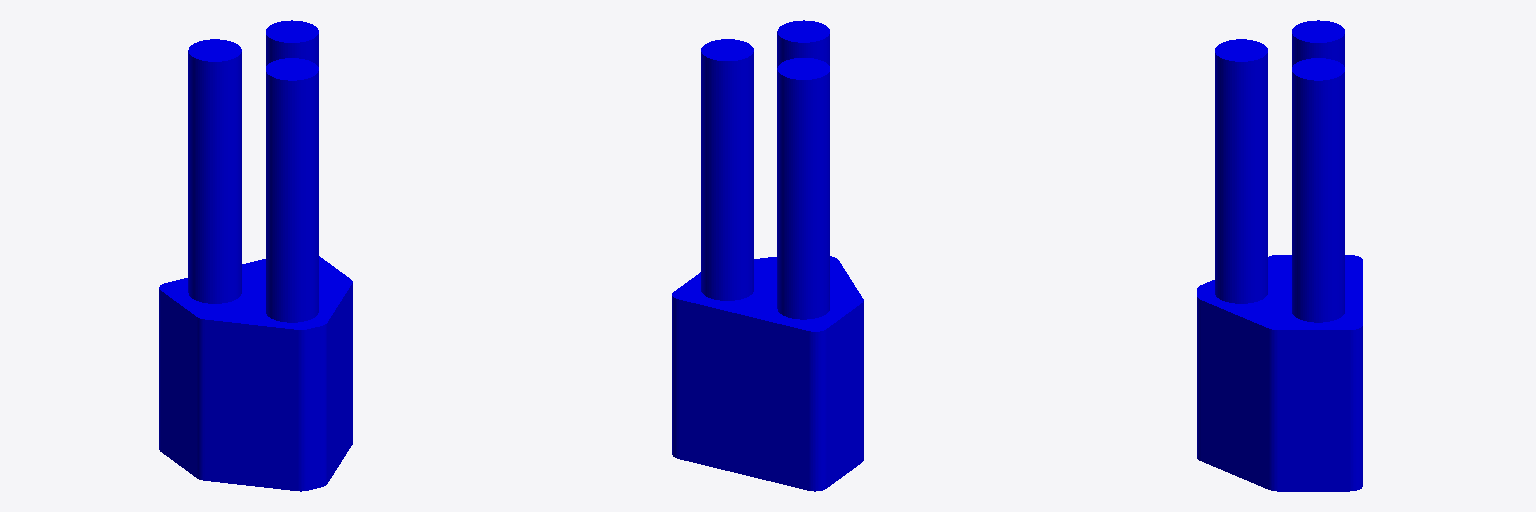
robot.urdf — board3_block1:
<?xml version="1.0"?>
<robot name="board3_block1">
    <link name="board3_block1">
        <visual>
            <origin xyz="0 0 0 " rpy=" 0 0 0"/>
            <geometry>
                <mesh filename="../meshes/SIMO_Board3_Block1.stl" scale="0.001 0.001 0.001"/>
            </geometry>
            <material name="red">
                <color rgba="0.0 0.0 1.0 1.0"/>
            </material>
        </visual>
        <collision>
            <origin xyz="0 0 0" rpy="0 0 0"/>
            <geometry>
                <mesh filename="../meshes/SIMO_Board3_Block1.stl" scale="0.001 0.001 0.001"/>
            </geometry>
        </collision>
    </link>
</robot>

--- Render facts (derived) ---
3 views of the same robot in one strip: view 1: azimuth 30°, elevation 25°; view 2: azimuth 150°, elevation 25°; view 3: azimuth 270°, elevation 25° (orthographic).
Robot: board3_block1 — 1 links, 0 joints (none); root link board3_block1; default pose: every joint at zero.
Visible links, largest first — view 1: board3_block1; view 2: board3_block1; view 3: board3_block1.
Boxes of the visible links, x1,y1,x2,y2 form: board3_block1: [159, 20, 352, 491]; board3_block1: [672, 20, 863, 491]; board3_block1: [1197, 20, 1362, 491].
Size in the robot's own frame: 0.04 by 0.0373 by 0.1 metres.
Meshes: 1 distinct files referenced, 1 mesh visuals loaded (1 ASCII STL).